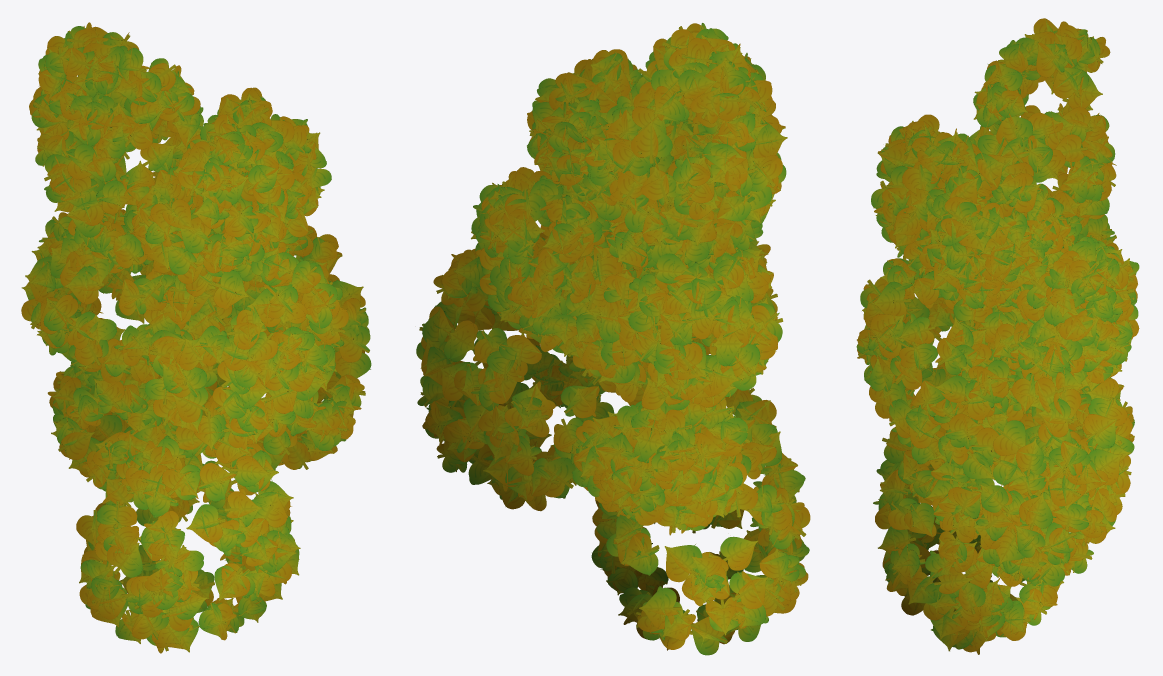
File: leaves.fbx
The picture shows the model from 3 angles, left to right: view 1: azimuth 30°, elevation 25°; view 2: azimuth 150°, elevation 25°; view 3: azimuth 270°, elevation 25°; orthographic projection. The views are drawn at different scales.
Parts seen in each view (by area): view 1: Leaves; view 2: Leaves; view 3: Leaves.
Boxes of the visible parts, box(x1,y1,x2,y2) form: Leaves: box(21, 22, 371, 653); Leaves: box(416, 23, 810, 655); Leaves: box(856, 18, 1139, 654).
Bounding box in the file's own units: 635 × 1113 × 503.
